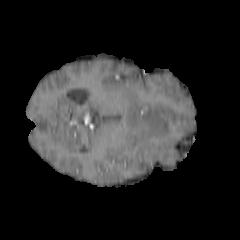glioma: (126, 109, 193, 167)
